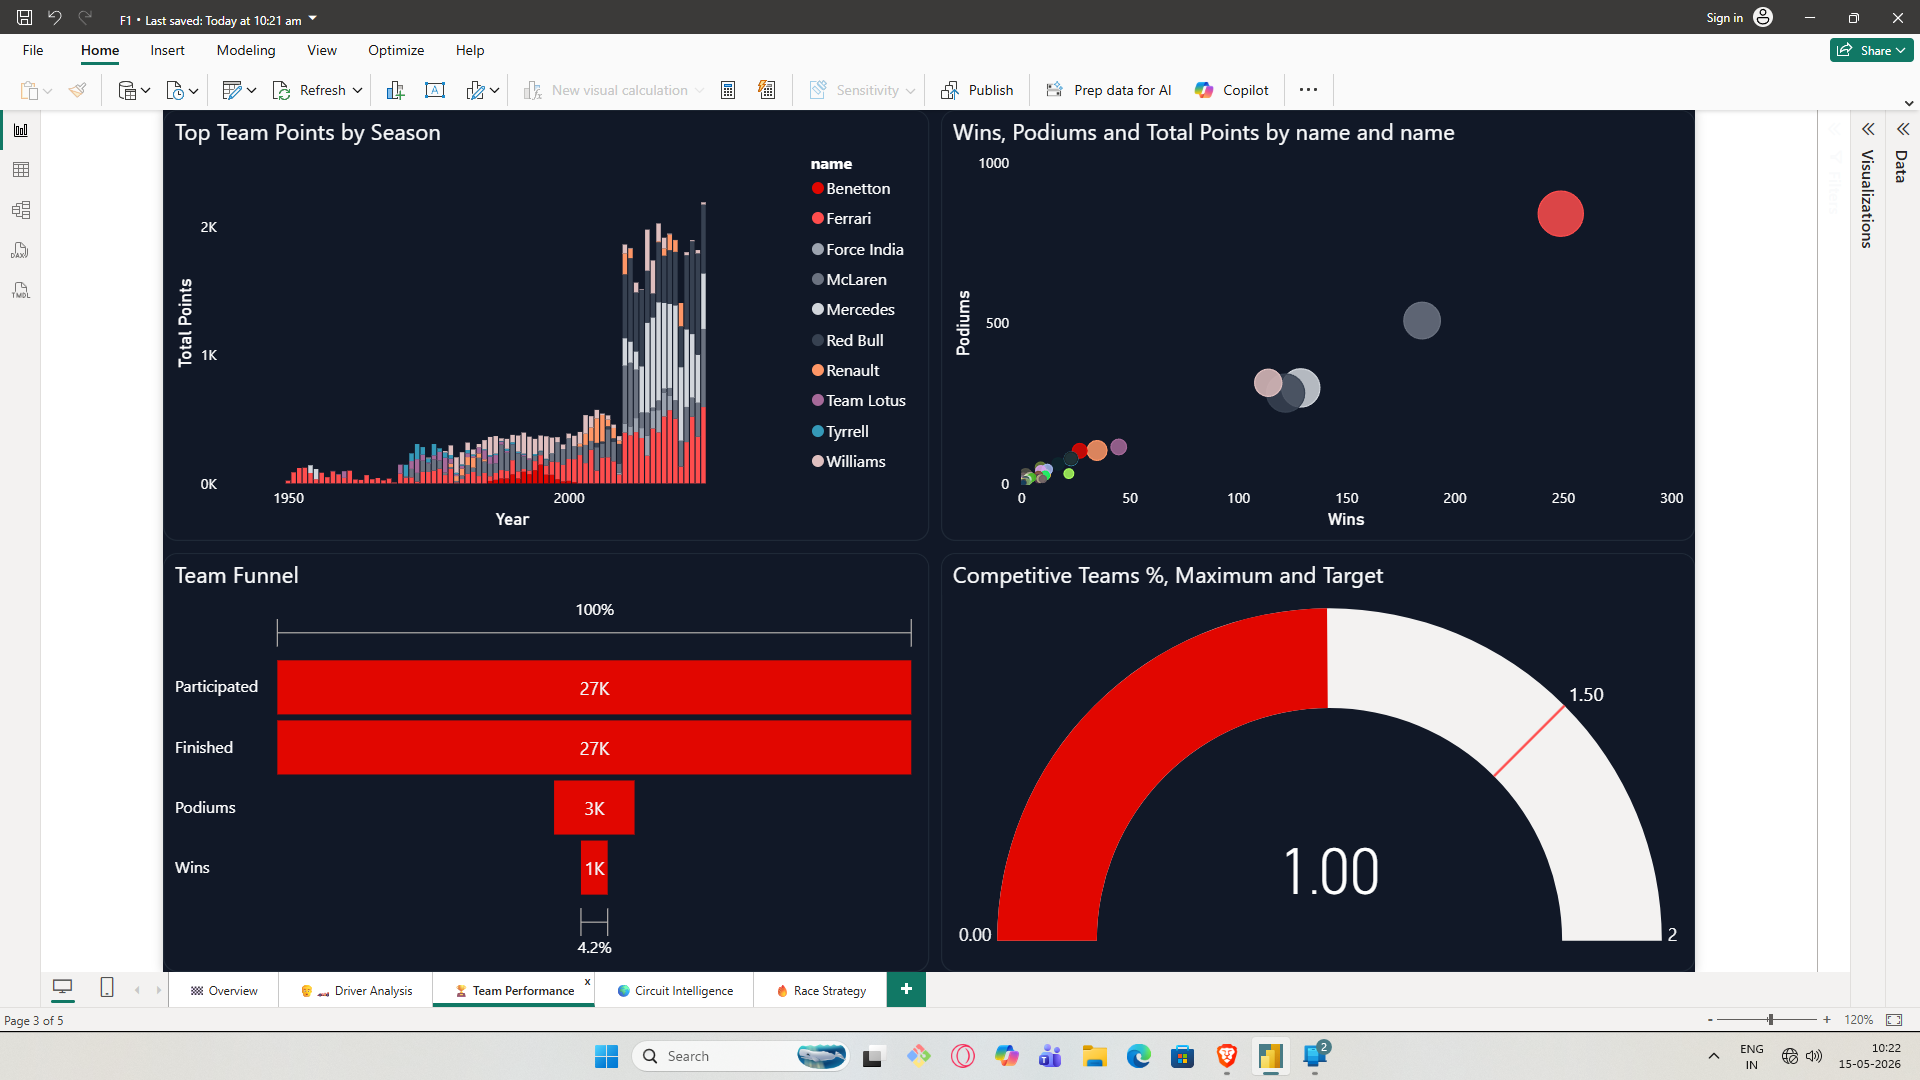

Layout of this report page (visuals, bound fields, positions):
{"tool":"powerbi","page":{"name":"🏆 Team Performance","canvas":[1280,720],"ordinal":2},"visuals":[{"type":"columnChart","title":"Top Team Points by Season","fields":{"Category":["races.date.Variation.Date Hierarchy.Year"],"Y":["circuits.Total Points"],"Series":["constructors.name"]},"box":[0,0,640,359.9],"z":0},{"type":"scatterChart","fields":{"X":["circuits.Wins"],"Y":["circuits.Podiums"],"Size":["circuits.Total Points"],"Category":["constructors.name"],"Series":["constructors.name"]},"box":[650,0,630,360],"z":1000},{"type":"funnel","title":"Team Funnel","fields":{"Y":["circuits.Participated","circuits.Finished","circuits.Podiums","circuits.Wins"]},"box":[0,370,640,350],"z":2000},{"type":"gauge","fields":{"Y":["circuits.Competitive Teams %"],"TargetValue":["circuits.Target"],"MaxValue":["circuits.Maximum"]},"box":[650,370,630,350],"z":3000}]}

Visuals, with their boxes on the page's 1280x720 design canvas (x1, y1, x2, y2). These are canvas units, not pixel positions in the 1920x1080 screenshot, which may show the page scaled, cropped or inside an application window:
"Top Team Points by Season" columnChart: [left=0, top=0, right=640, bottom=360]
scatterChart - circuits.Wins x circuits.Podiums: [left=650, top=0, right=1280, bottom=360]
"Team Funnel" funnel: [left=0, top=370, right=640, bottom=720]
gauge - circuits.Competitive Teams % x circuits.Target: [left=650, top=370, right=1280, bottom=720]
